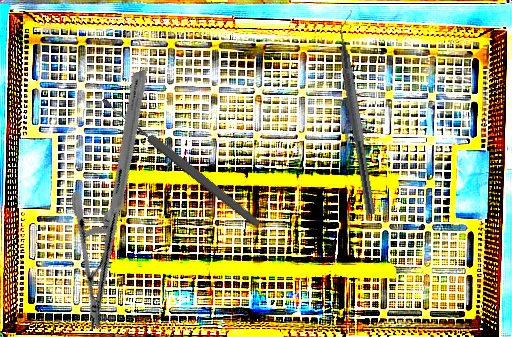Chopper: (330, 9, 390, 216)
Needle Holder: (14, 69, 221, 331)
Surgical Spoon: (99, 94, 263, 230)
